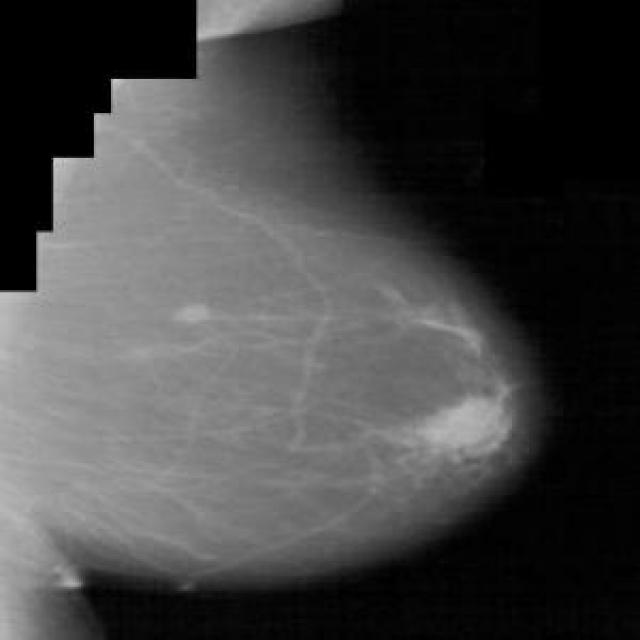tumor: (387, 377, 524, 472), (174, 291, 228, 340)
